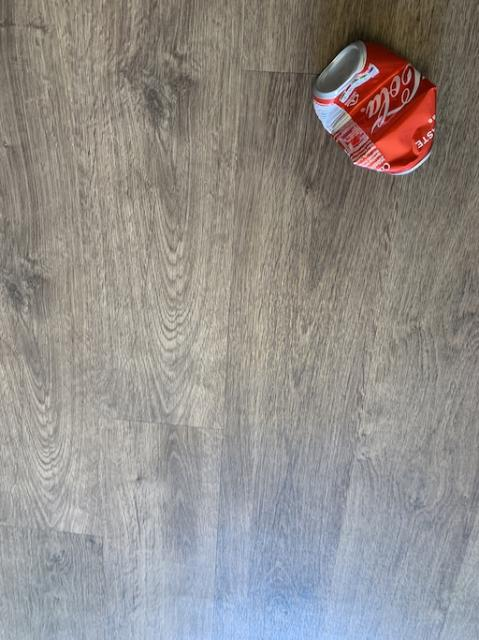metal: (312, 40, 436, 173)
